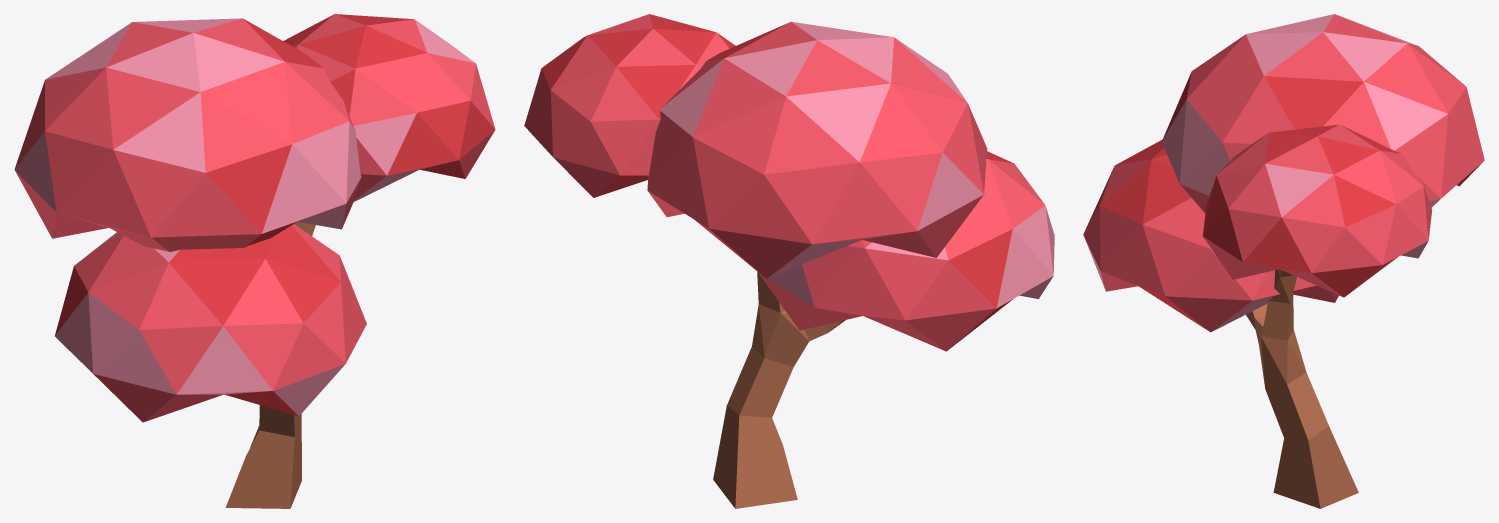
The model's file is Tree_10.fbx.
The picture shows the model from 3 angles, left to right: view 1: azimuth 30°, elevation 25°; view 2: azimuth 150°, elevation 25°; view 3: azimuth 270°, elevation 25°; orthographic projection. The views are drawn at different scales.
Parts seen in each view (by area): view 1: Tree_10; view 2: Tree_10; view 3: Tree_10.
Boxes of the visible parts, x1,y1,x2,y2 form: Tree_10: (14, 14, 495, 508); Tree_10: (524, 14, 1054, 508); Tree_10: (1083, 14, 1484, 508).
Bounding box in the file's own units: 499 × 502 × 422.
